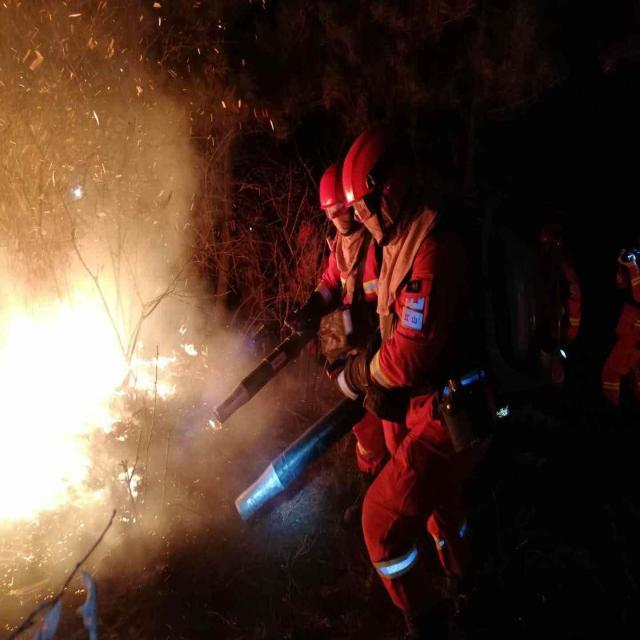Fire: (0, 258, 210, 542), (0, 4, 224, 254)
